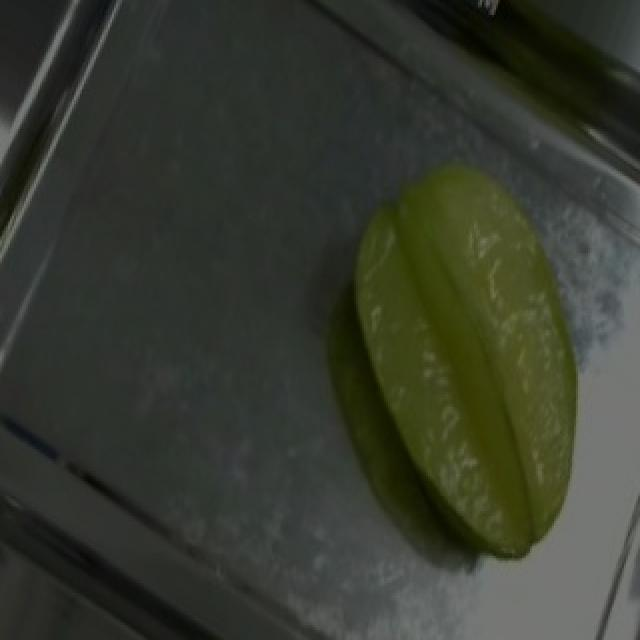fruit: (308, 119, 640, 523)
